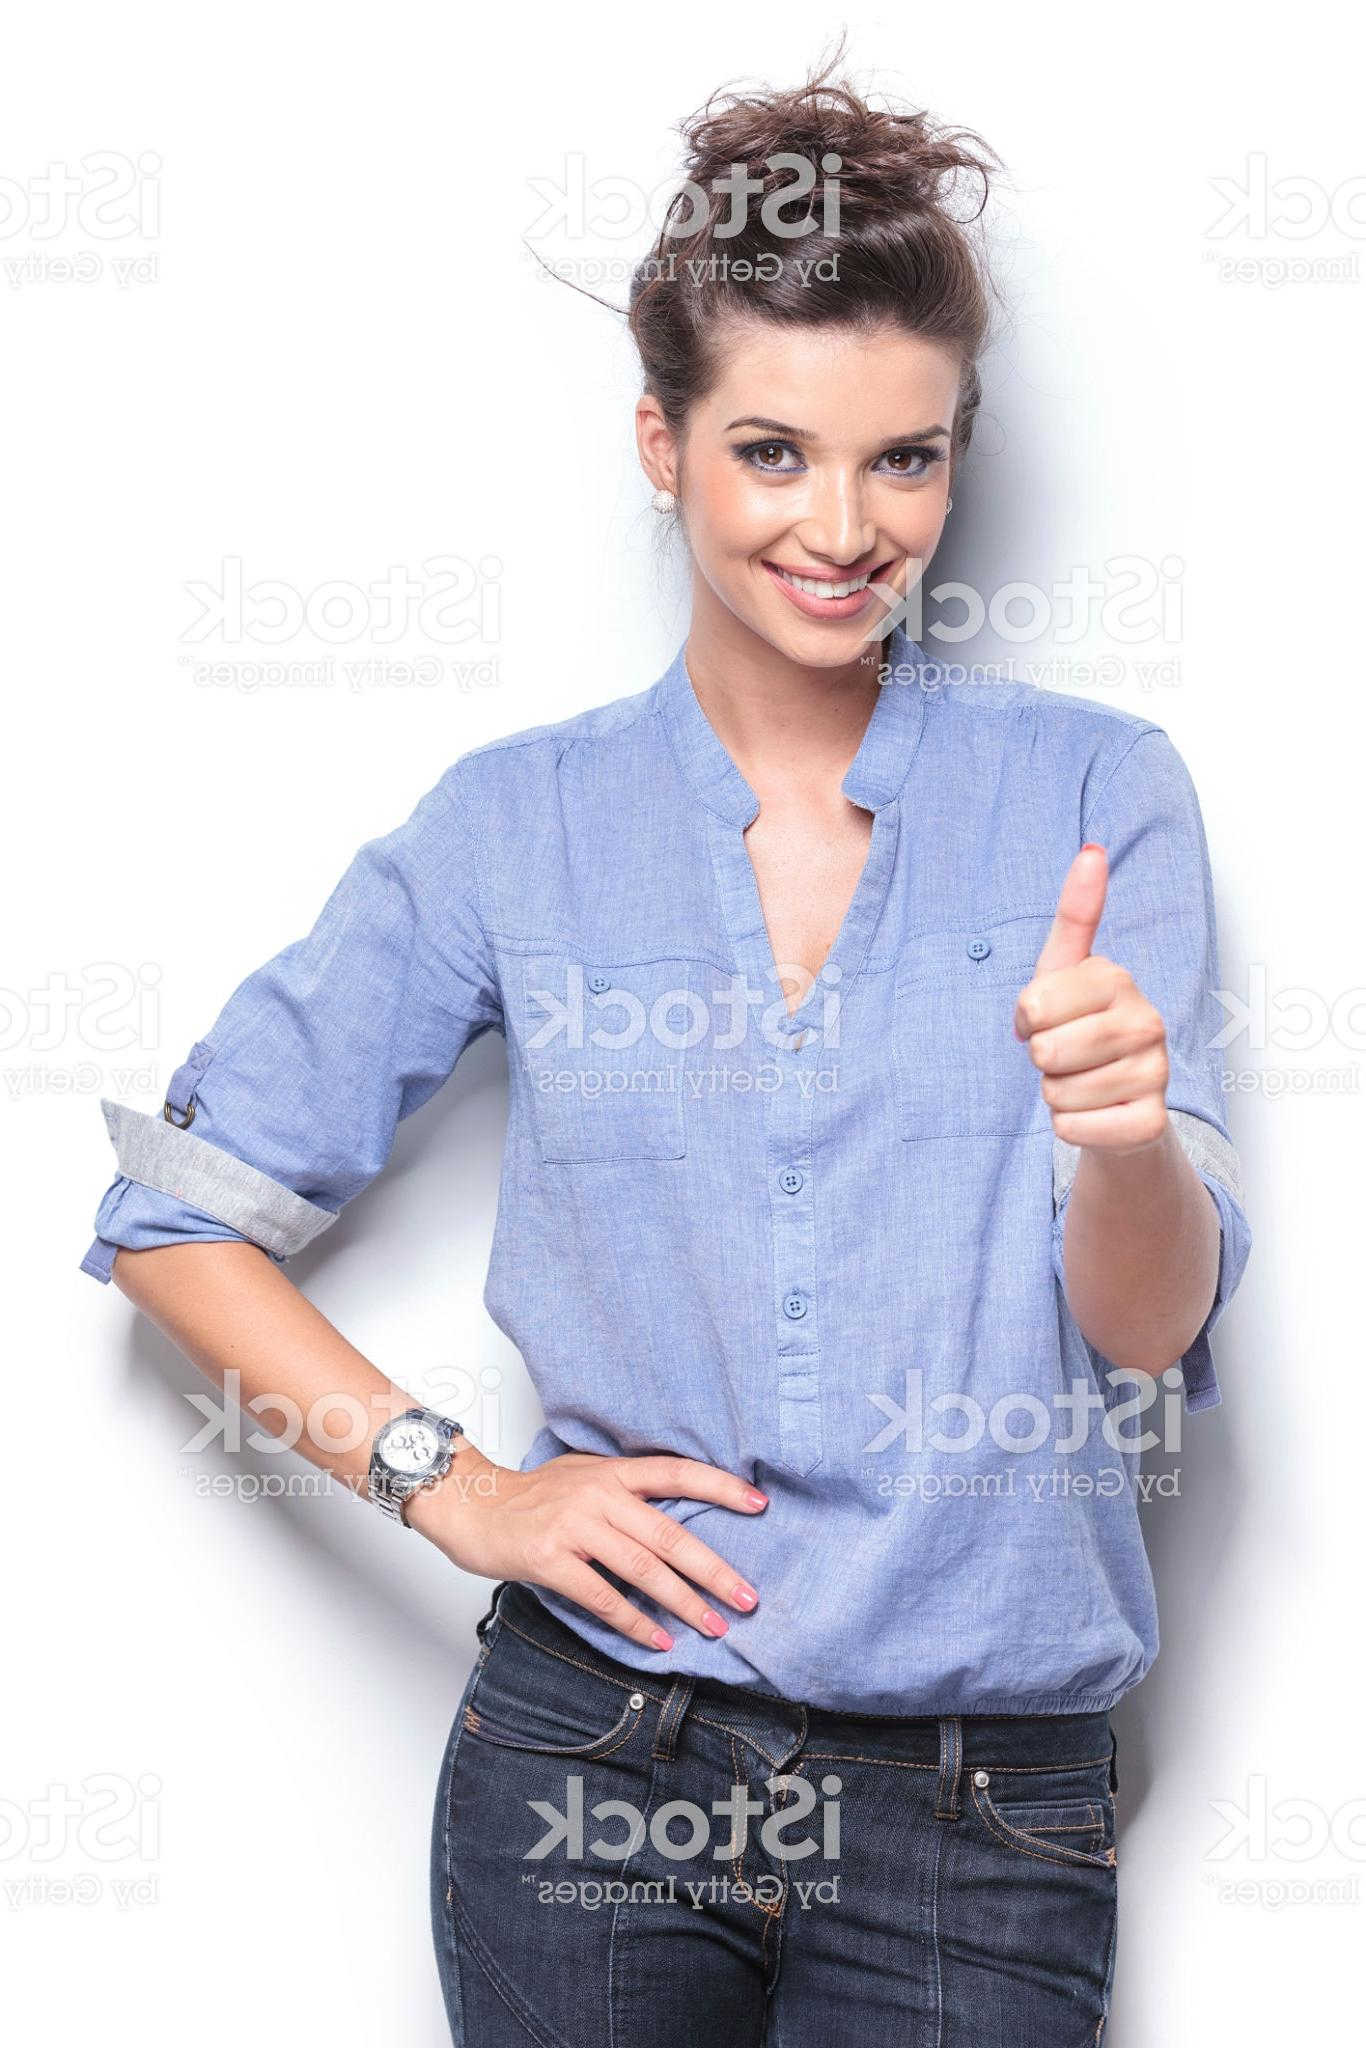thumbsup: (1008, 841, 1174, 1157)
